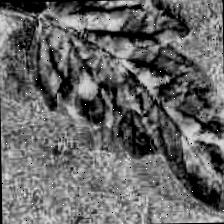leaf mold: (30, 0, 224, 224)
